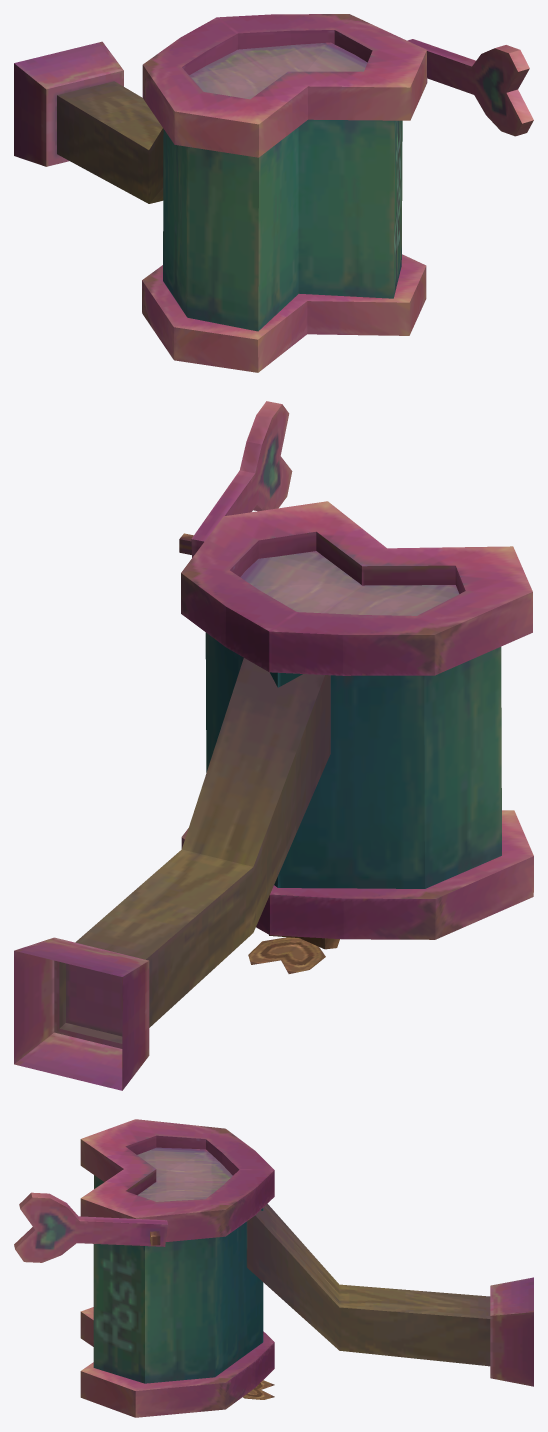
The model's file is zhuangyuan_youxiang.obj.
3 renders of one model, top to bottom at view 1: azimuth 30°, elevation 25°; view 2: azimuth 150°, elevation 25°; view 3: azimuth 270°, elevation 25°, orthographic. The views are drawn at different scales.
Parts seen in each view (by area): view 1: zhuangyuan_youxiang; view 2: zhuangyuan_youxiang; view 3: zhuangyuan_youxiang.
Boxes of the visible parts, x1,y1,x2,y2 form: zhuangyuan_youxiang: (14,14,533,372); zhuangyuan_youxiang: (14,401,533,1090); zhuangyuan_youxiang: (14,1119,533,1417).
Bounding box in the file's own units: 43.48 × 46 × 85.4.
1 material, 1 textured.
